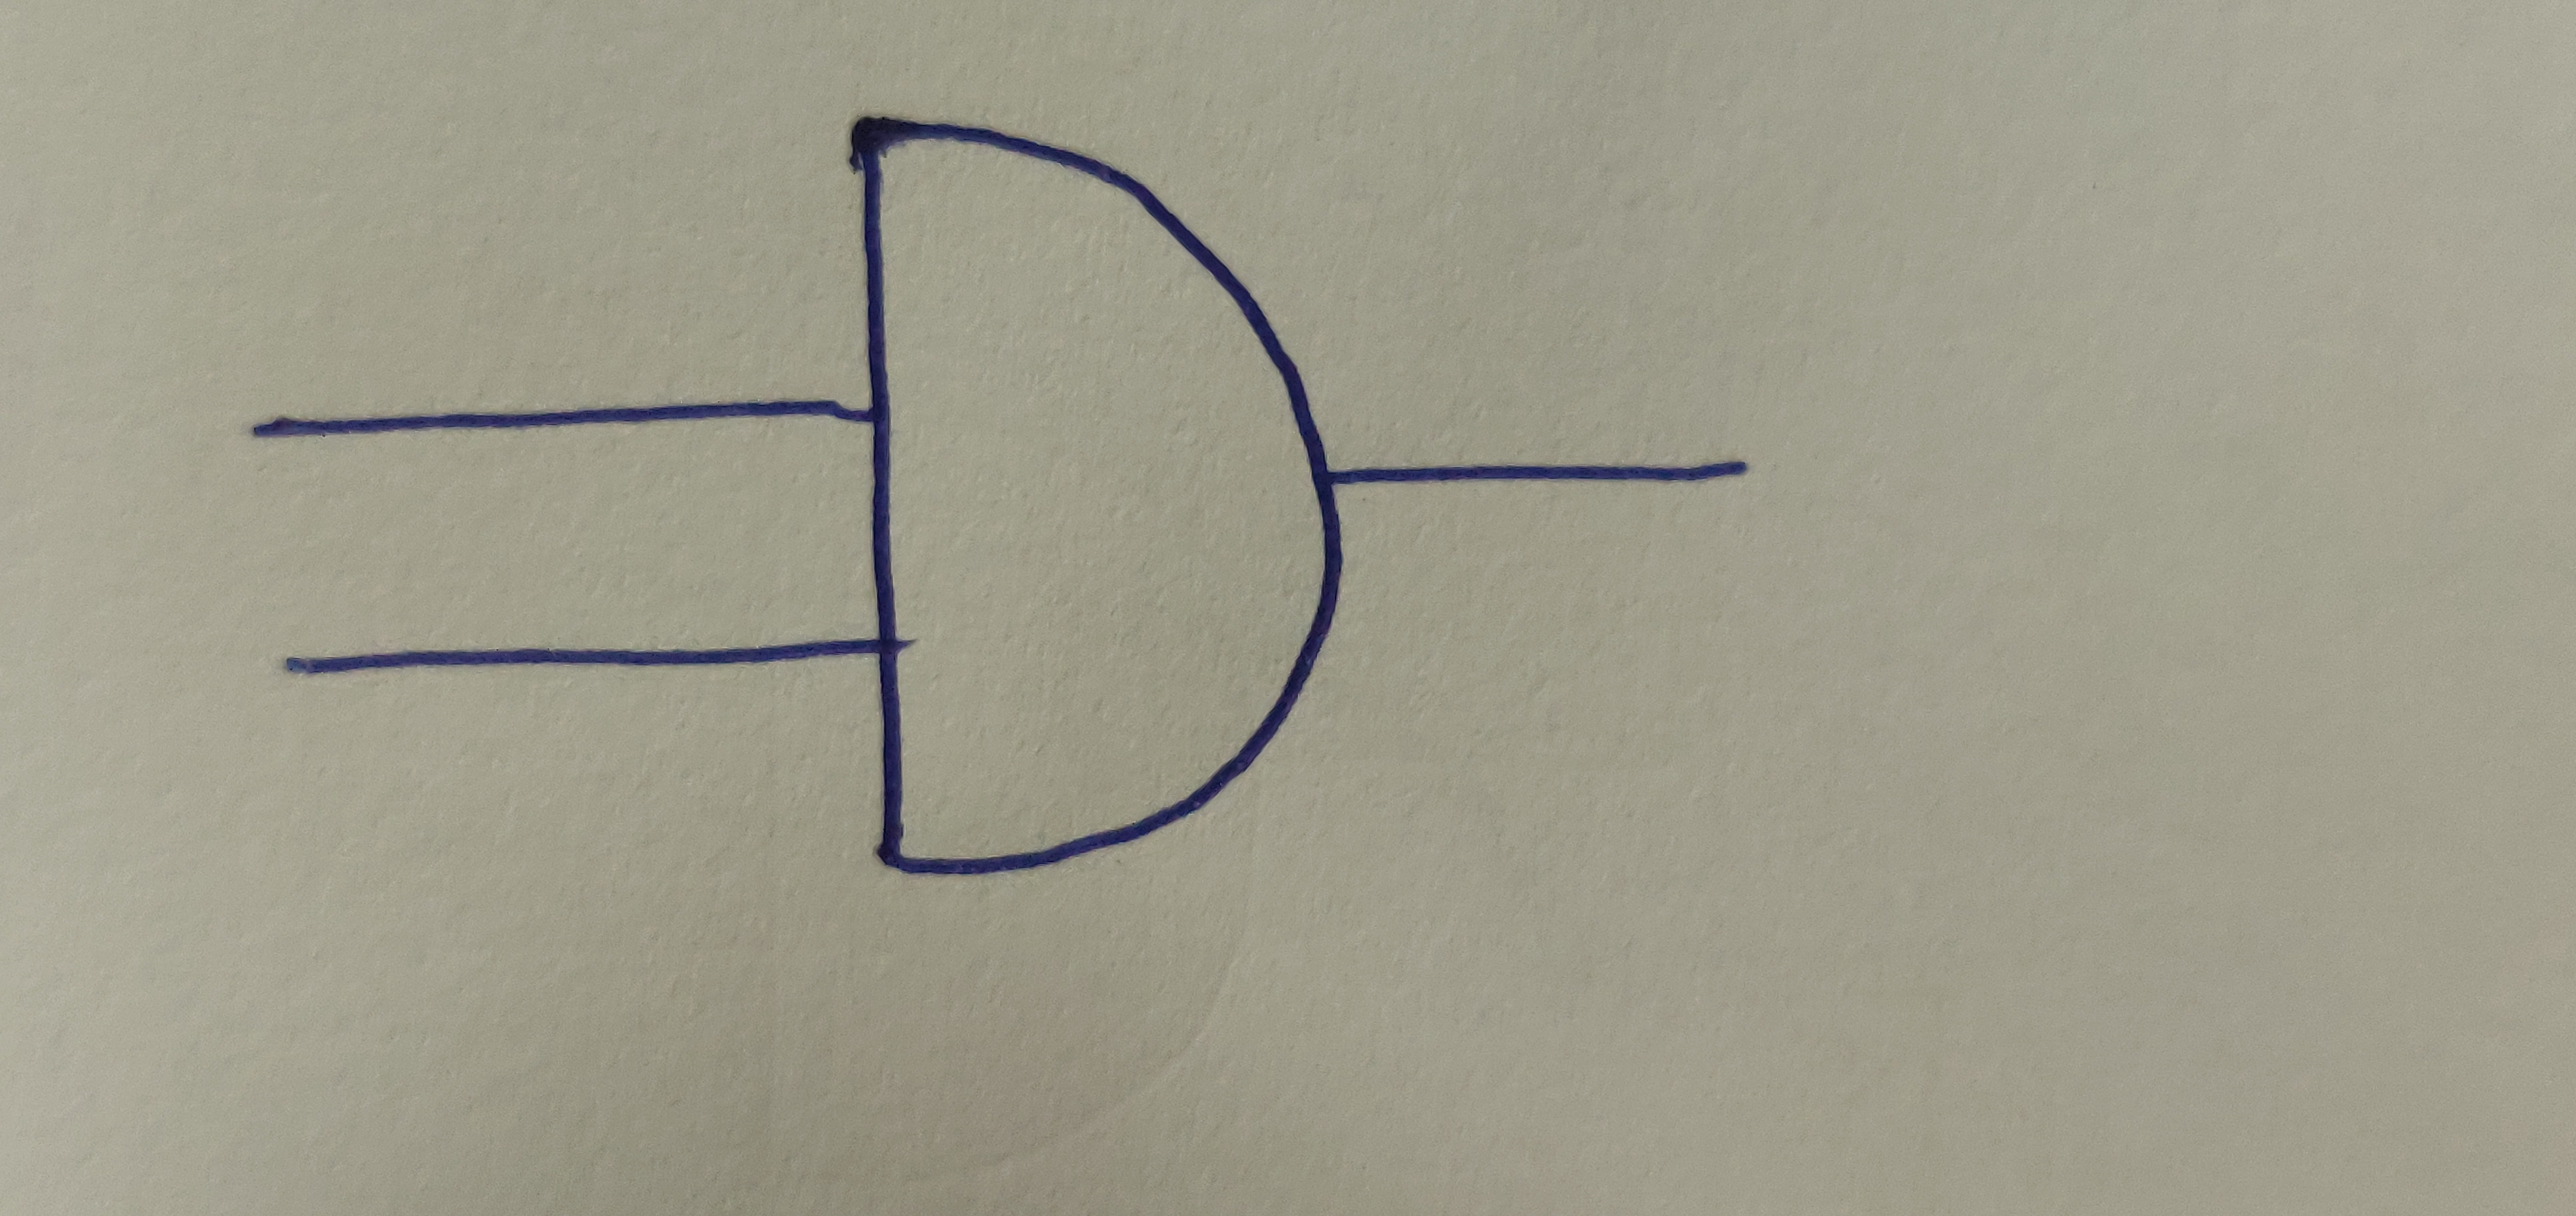and: (848, 115, 1339, 874)
